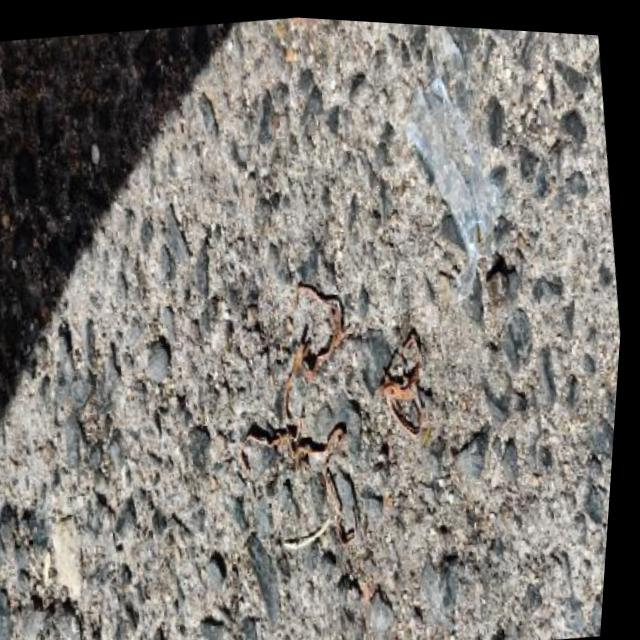plastic: (379, 24, 527, 313)
